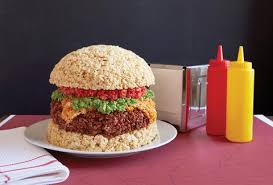hamburger: (46, 41, 162, 149)
